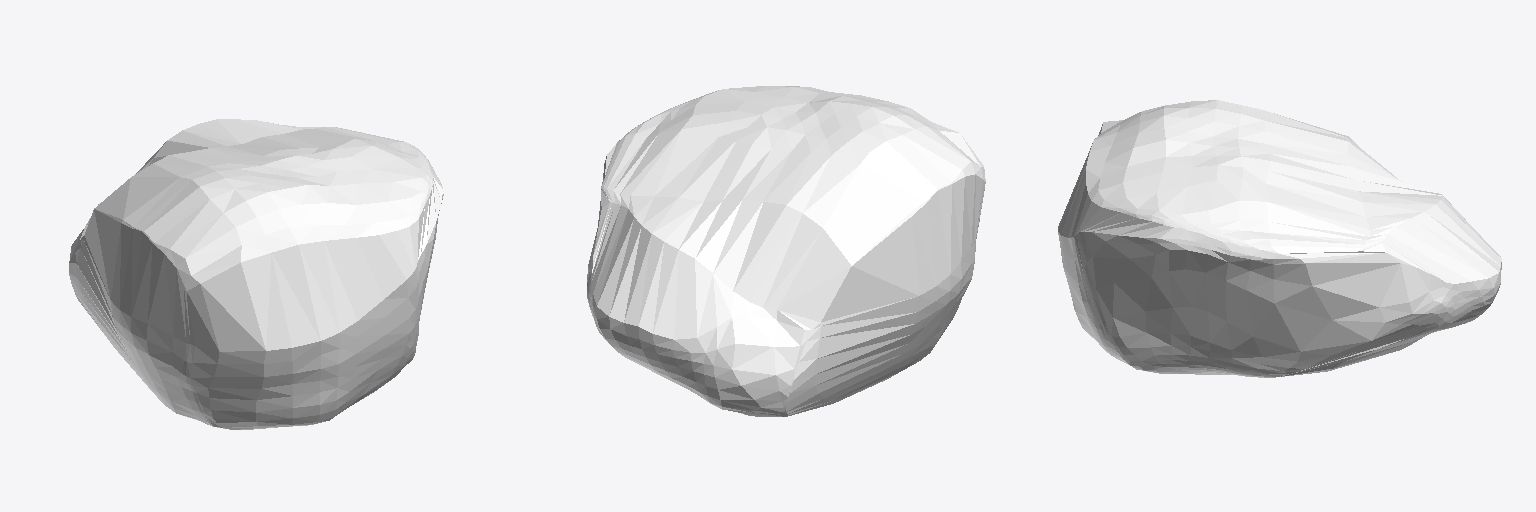
Rendered from roca2.obj.
The picture shows the model from 3 angles: view 1: azimuth 30°, elevation 25°; view 2: azimuth 150°, elevation 25°; view 3: azimuth 270°, elevation 25°; orthographic projection.
Parts seen in each view (by area): view 1: rock_low_poly:pCube1_Mesh.017; view 2: rock_low_poly:pCube1_Mesh.017; view 3: rock_low_poly:pCube1_Mesh.017.
Part boxes in pixels (bbox=[...]): rock_low_poly:pCube1_Mesh.017: bbox=[69, 119, 443, 429]; rock_low_poly:pCube1_Mesh.017: bbox=[587, 86, 985, 416]; rock_low_poly:pCube1_Mesh.017: bbox=[1058, 100, 1501, 377].
Bounding box in the file's own units: 202 × 148 × 253.